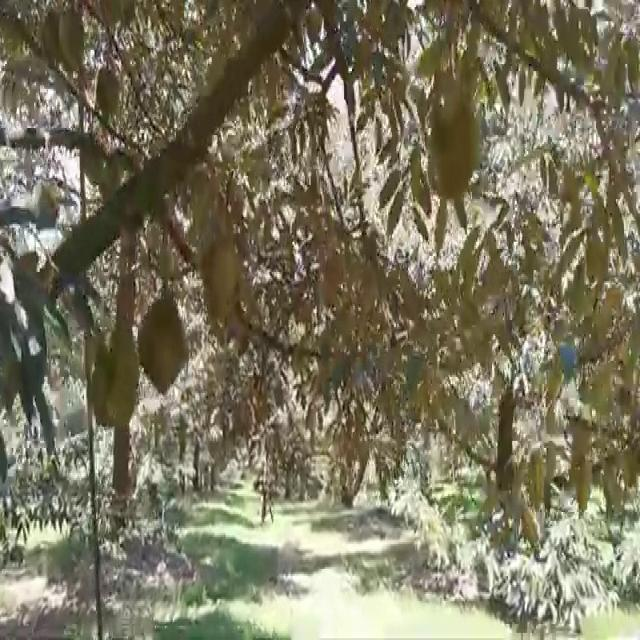durian: (428, 71, 488, 209), (96, 317, 145, 430), (136, 292, 192, 389), (203, 228, 243, 328), (97, 144, 132, 206), (58, 5, 84, 72), (38, 7, 65, 71), (76, 130, 107, 185), (94, 61, 122, 121), (306, 0, 324, 49)
